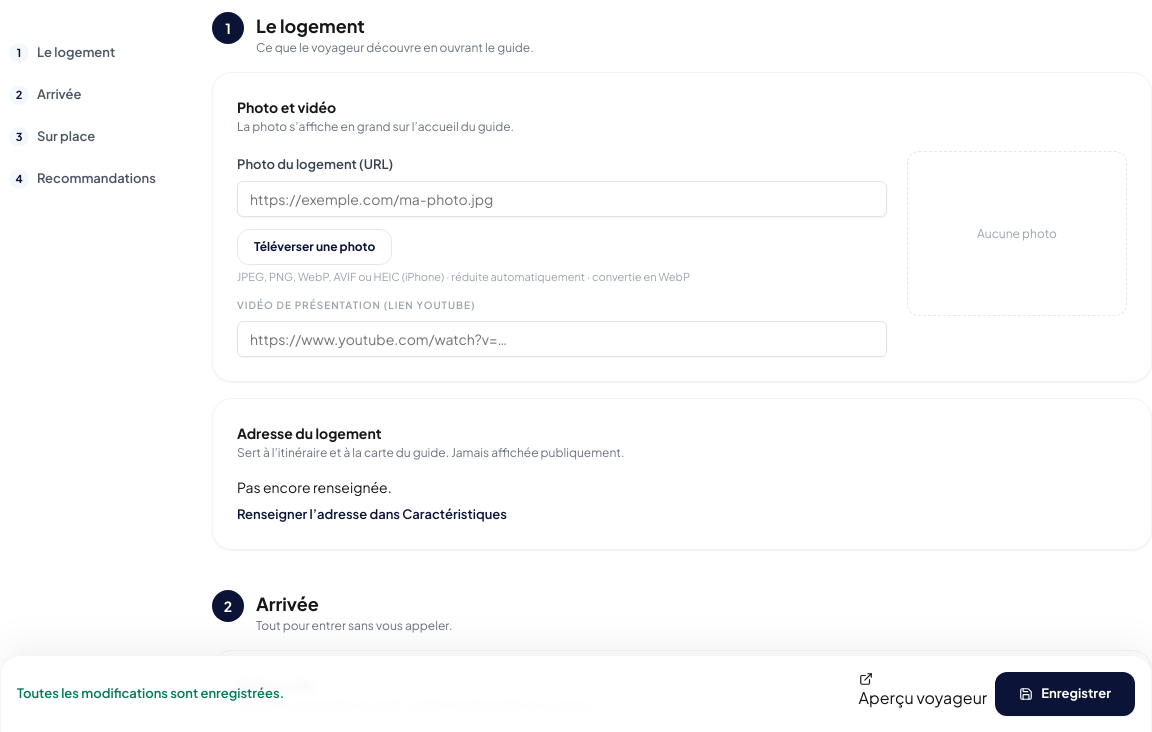
Test: CustomizationForm — practical blocks payload › 083 : un lien vidéo non YouTube bloque l’envoi et reste signalé sous le champ
Type "https://vimeo.com/123" into the field labelled "Vidéo de présentation (lien YouTube)" at (562, 338), box x1=237 y1=320 x2=887 y2=356
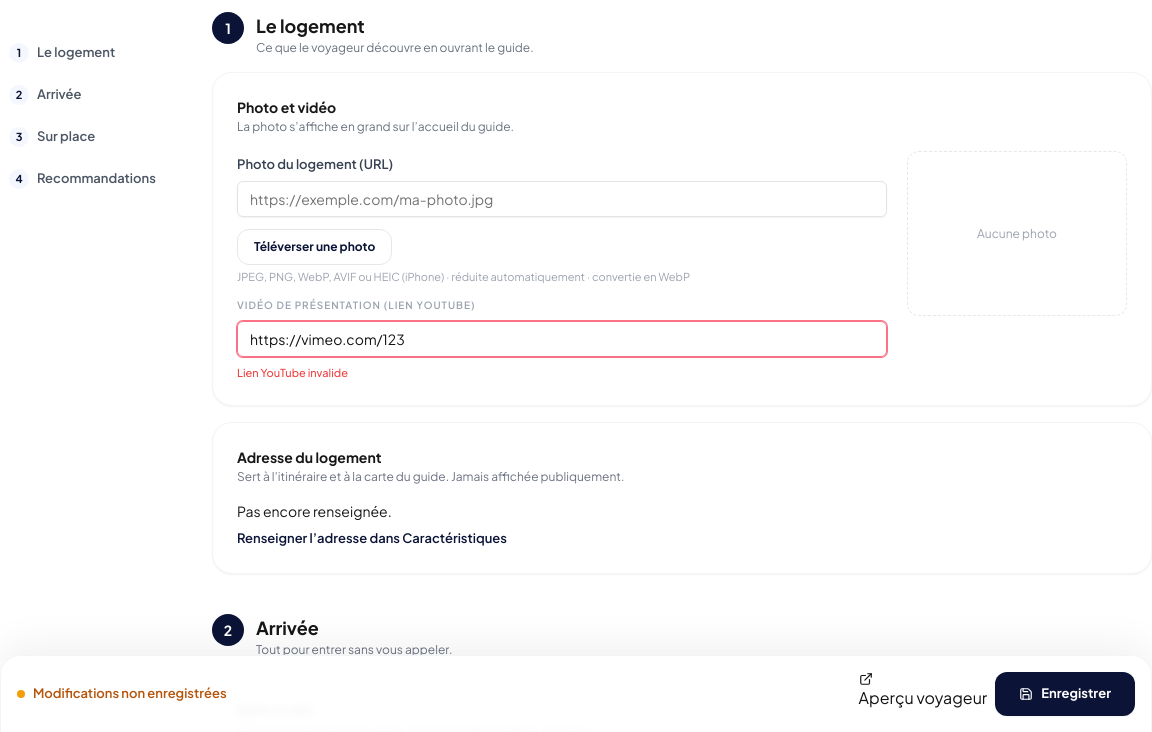
Click the button "Enregistrer" at (1065, 694), box x1=995 y1=672 x2=1135 y2=716
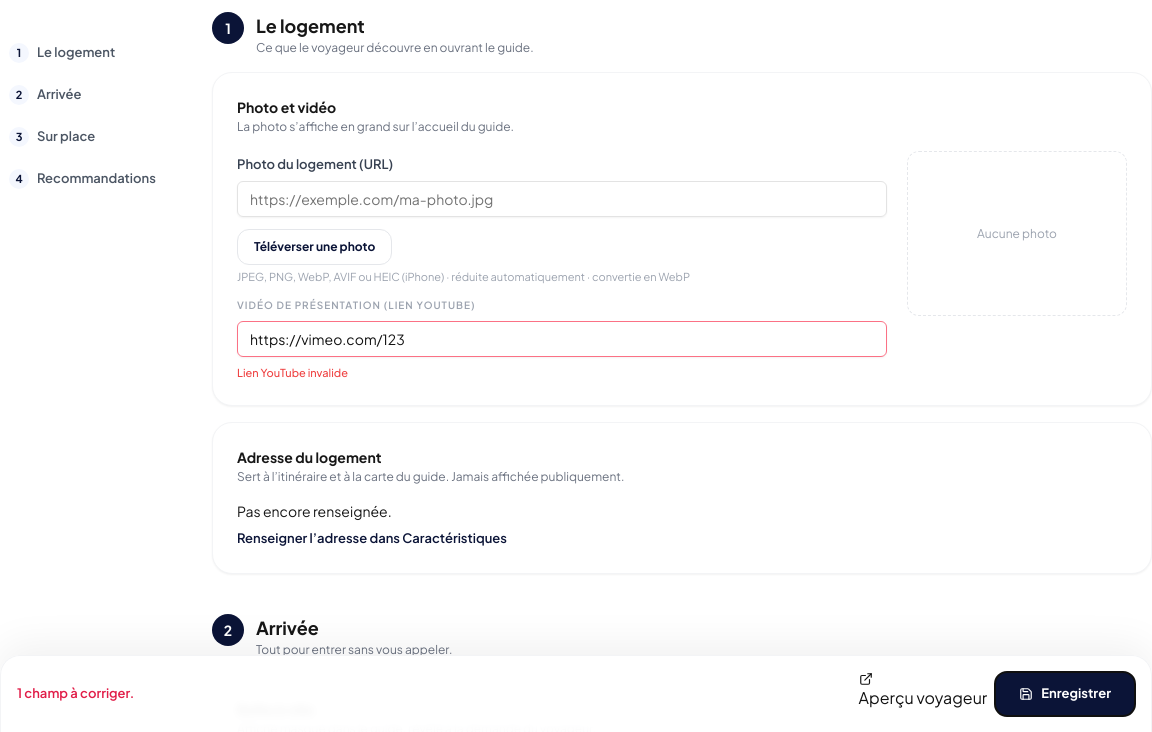
Expected: the text "Lien YouTube invalide" is shown, x1=237 y1=366 x2=348 y2=378
Expected: the message named "État de l’enregistrement" reads "1 champ à corriger.", x1=17 y1=685 x2=134 y2=701
